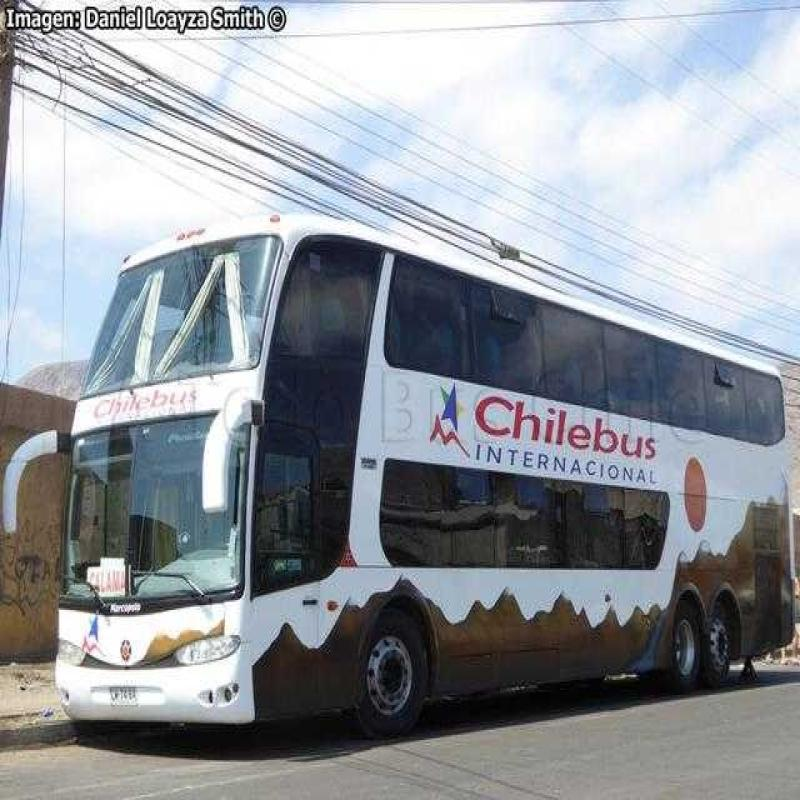bus: (45, 142, 796, 767)
